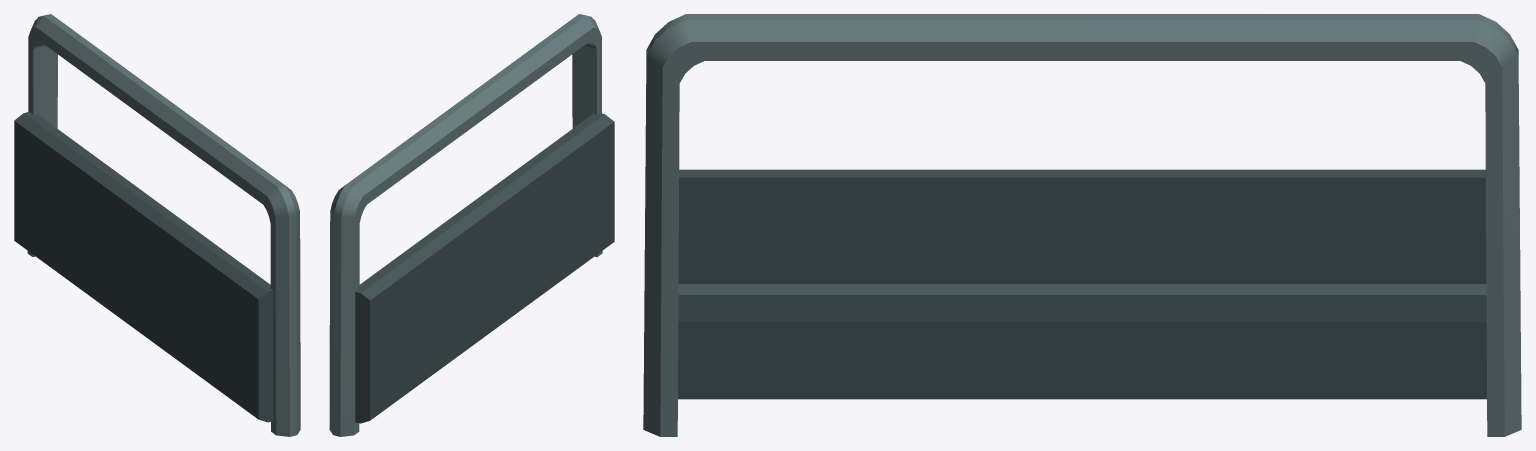
The model's file is SM_Barrierre_M.fbx.
3 views of the same model, side by side, from view 1: azimuth 30°, elevation 25°; view 2: azimuth 150°, elevation 25°; view 3: azimuth 270°, elevation 25° (orthographic). The views are drawn at different scales.
Parts seen in each view (by area): view 1: SM_Barrierre_M; view 2: SM_Barrierre_M; view 3: SM_Barrierre_M.
Boxes of the visible parts, x1,y1,x2,y2 form: SM_Barrierre_M: (14, 14, 300, 436); SM_Barrierre_M: (329, 14, 614, 436); SM_Barrierre_M: (643, 14, 1521, 436).
Size of the model in its own units: 16.34 by 95.64 by 186.
1 material, 1 textured.
